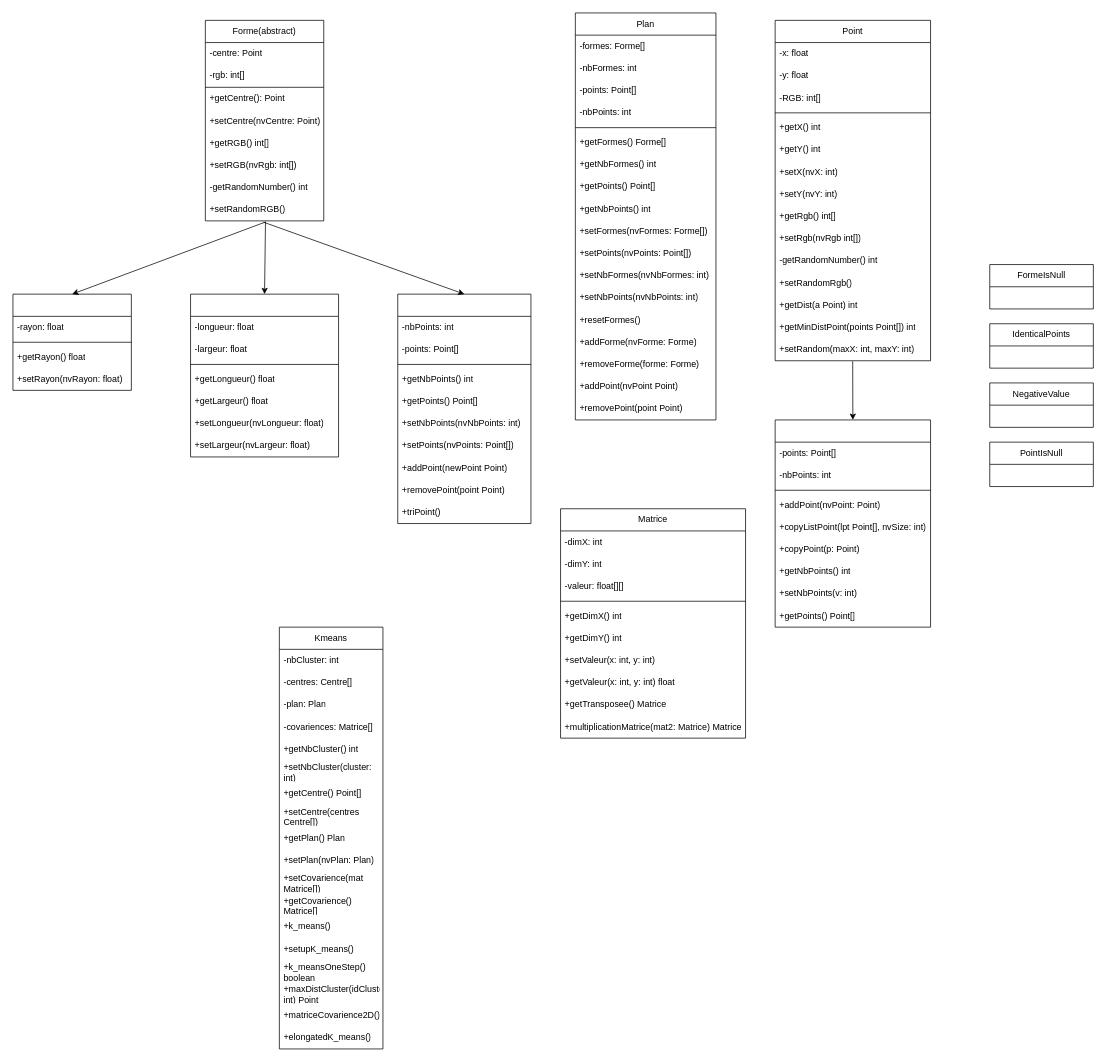
This 1106x1062 diagram has some shape labels left out. Each missing label, with the box of its shape:
Centre: (774, 419, 931, 627)
Cercle: (12, 293, 131, 390)
Ellipse: (190, 293, 339, 457)
Polygone: (397, 293, 531, 524)
